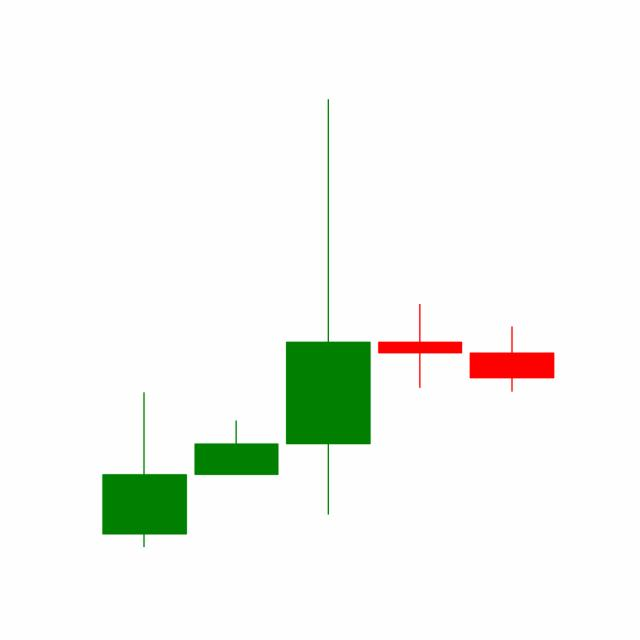Spinning Top: (373, 302, 467, 389)
